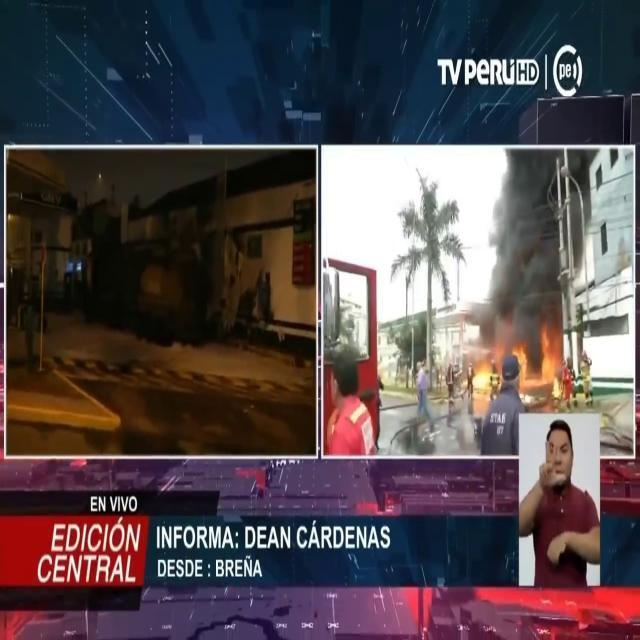Fire: (465, 328, 573, 406)
Smoke: (470, 147, 576, 343)
